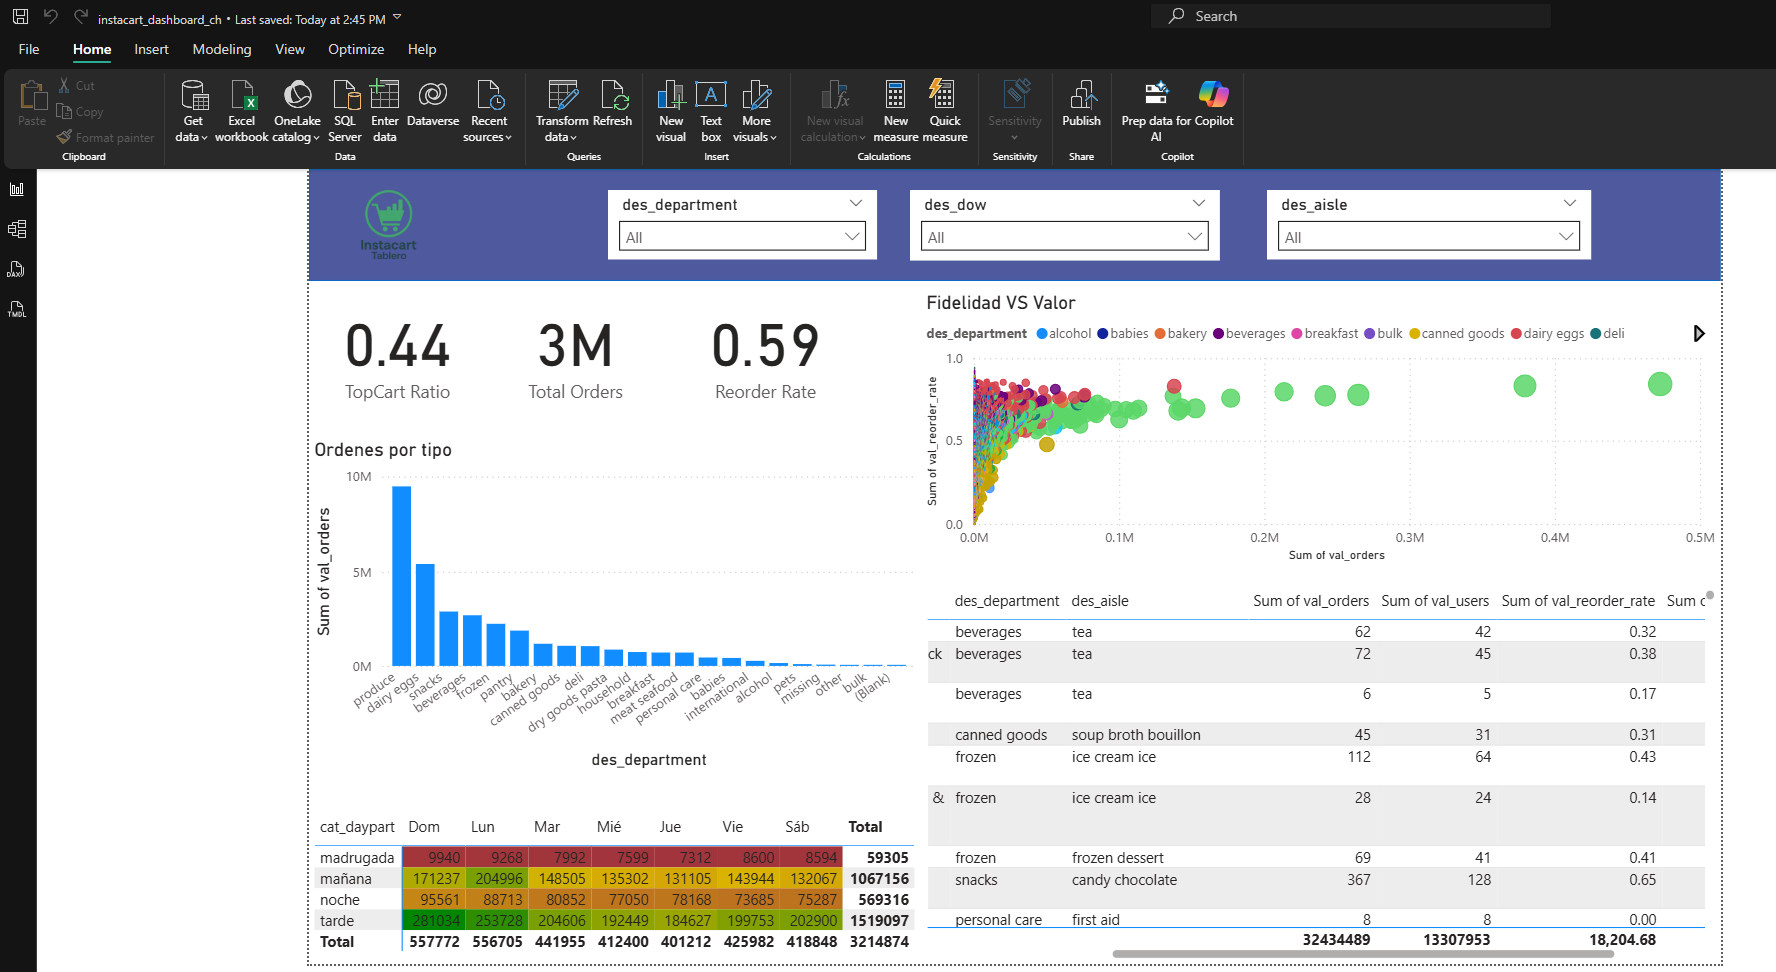

This screenshot's page, from the dashboard's own definition file:
{"tool":"powerbi","page":{"name":"Page 1","canvas":[1280,720],"ordinal":0},"visuals":[{"type":"shape","box":[0,0,1280.4,101.6],"z":0},{"type":"card","fields":{"Values":["fact_order_items.Total Orders"]},"box":[178.6,110.6,126,105.2],"z":1000},{"type":"card","fields":{"Values":["fact_order_items.Reorder Rate"]},"box":[293.8,101.6,240.3,123.3],"z":2000},{"type":"card","fields":{"Values":["fact_order_items.TopCart Ratio"]},"box":[0,110.6,160.5,105.2],"z":3000},{"type":"clusteredColumnChart","title":"Ordenes por tipo","fields":{"Y":["Sum(metrics_product.val_orders)"],"Category":["metrics_product.des_department"]},"box":[0,243.9,555,303.8],"z":4000},{"type":"tableEx","fields":{"Values":["metrics_product.des_product_name","metrics_product.des_department","metrics_product.des_aisle","Sum(metrics_product.val_orders)","Sum(metrics_product.val_users)","Sum(metrics_product.val_reorder_rate)","Sum(metrics_product.val_first_time_buys)"]},"box":[555,375.4,725.4,344.6],"z":5000},{"type":"scatterChart","title":"Fidelidad VS Valor","fields":{"X":["Sum(metrics_product.val_orders)"],"Y":["Sum(metrics_product.val_reorder_rate)"],"Size":["Sum(metrics_product.val_users)"],"Category":["metrics_product.cod_product"],"Series":["metrics_product.des_department"]},"box":[555,110.6,725.4,249.4],"z":6000},{"type":"pivotTable","fields":{"Rows":["metrics_time.cat_daypart"],"Columns":["metrics_time.des_dow"],"Values":["Sum(metrics_time.val_orders)"]},"box":[0,580.4,555,139.6],"z":7000},{"type":"image","box":[28.1,6.3,88.9,88.9],"z":8000},{"type":"slicer","fields":{"Values":["fact_order_items.des_department"]},"box":[271.1,19,243.9,63.5],"z":9000},{"type":"slicer","fields":{"Values":["metrics_time.des_dow"]},"box":[545,19,281.1,64.4],"z":9001},{"type":"slicer","fields":{"Values":["metrics_product.des_aisle"]},"box":[868.7,19,293.8,63.5],"z":9002}]}

Visuals, with their boxes on the page's 1280x720 design canvas (x1, y1, x2, y2). These are canvas units, not pixel positions in the 1776x972 screenshot, which may show the page scaled, cropped or inside an application window:
shape: pyautogui.locateOnScreen(0, 0, 1280, 102)
card - fact_order_items.Total Orders: pyautogui.locateOnScreen(179, 111, 305, 216)
card - fact_order_items.Reorder Rate: pyautogui.locateOnScreen(294, 102, 534, 225)
card - fact_order_items.TopCart Ratio: pyautogui.locateOnScreen(0, 111, 160, 216)
"Ordenes por tipo" clusteredColumnChart: pyautogui.locateOnScreen(0, 244, 555, 548)
tableEx - metrics_product.des_product_name x metrics_product.des_department: pyautogui.locateOnScreen(555, 375, 1280, 720)
"Fidelidad VS Valor" scatterChart: pyautogui.locateOnScreen(555, 111, 1280, 360)
pivotTable - metrics_time.cat_daypart x metrics_time.des_dow: pyautogui.locateOnScreen(0, 580, 555, 720)
image: pyautogui.locateOnScreen(28, 6, 117, 95)
slicer - fact_order_items.des_department: pyautogui.locateOnScreen(271, 19, 515, 82)
slicer - metrics_time.des_dow: pyautogui.locateOnScreen(545, 19, 826, 83)
slicer - metrics_product.des_aisle: pyautogui.locateOnScreen(869, 19, 1162, 82)
